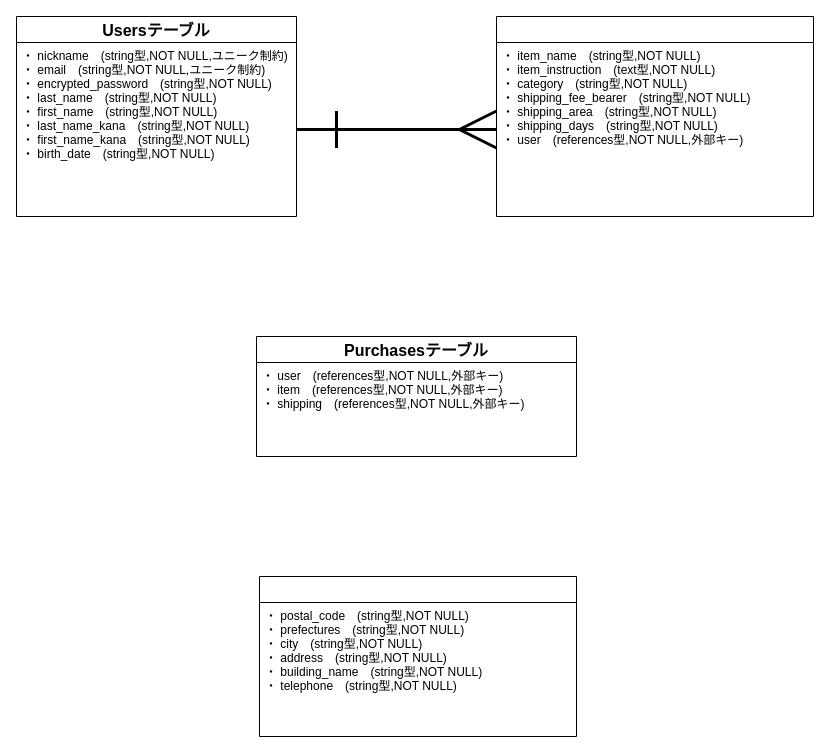
Some shapes in this 830 by 753 pixel diagram are drawn without their labels. Each missing label, with the box of its shape:
Itemsテーブル: (496, 16, 814, 216)
Shippingsテーブル: (258, 576, 576, 736)
